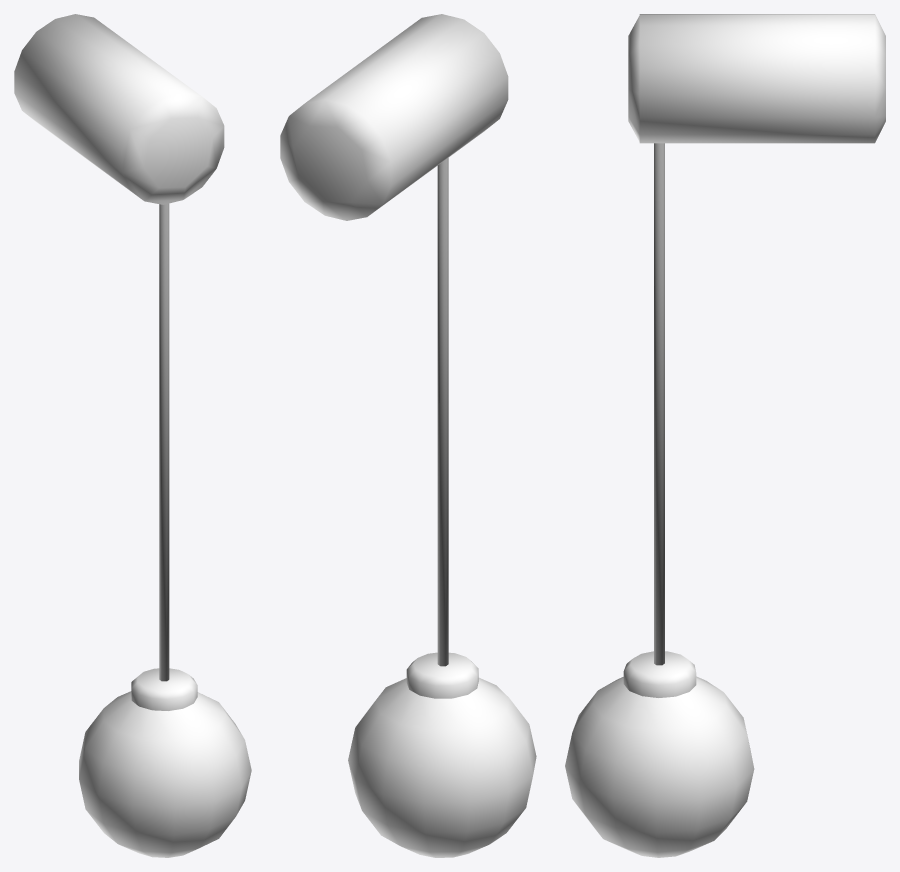
The model's file is diff_7.2.fbx.
The picture shows the model from 3 angles, left to right: view 1: azimuth 30°, elevation 25°; view 2: azimuth 150°, elevation 25°; view 3: azimuth 270°, elevation 25°; orthographic projection. The views are drawn at different scales.
Parts seen in each view (by area): view 1: Circle.007; view 2: Circle.007; view 3: Circle.007.
Boxes of the visible parts, box(x1,y1,x2,y2) form: Circle.007: box(14, 14, 251, 857); Circle.007: box(280, 14, 536, 857); Circle.007: box(565, 14, 885, 857).
Bounding box in the file's own units: 242 × 1163 × 412.
